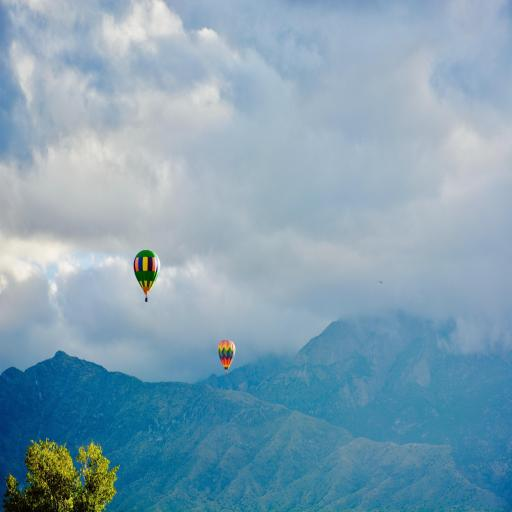hot air ballon: (133, 250, 160, 302), (217, 340, 235, 375)
